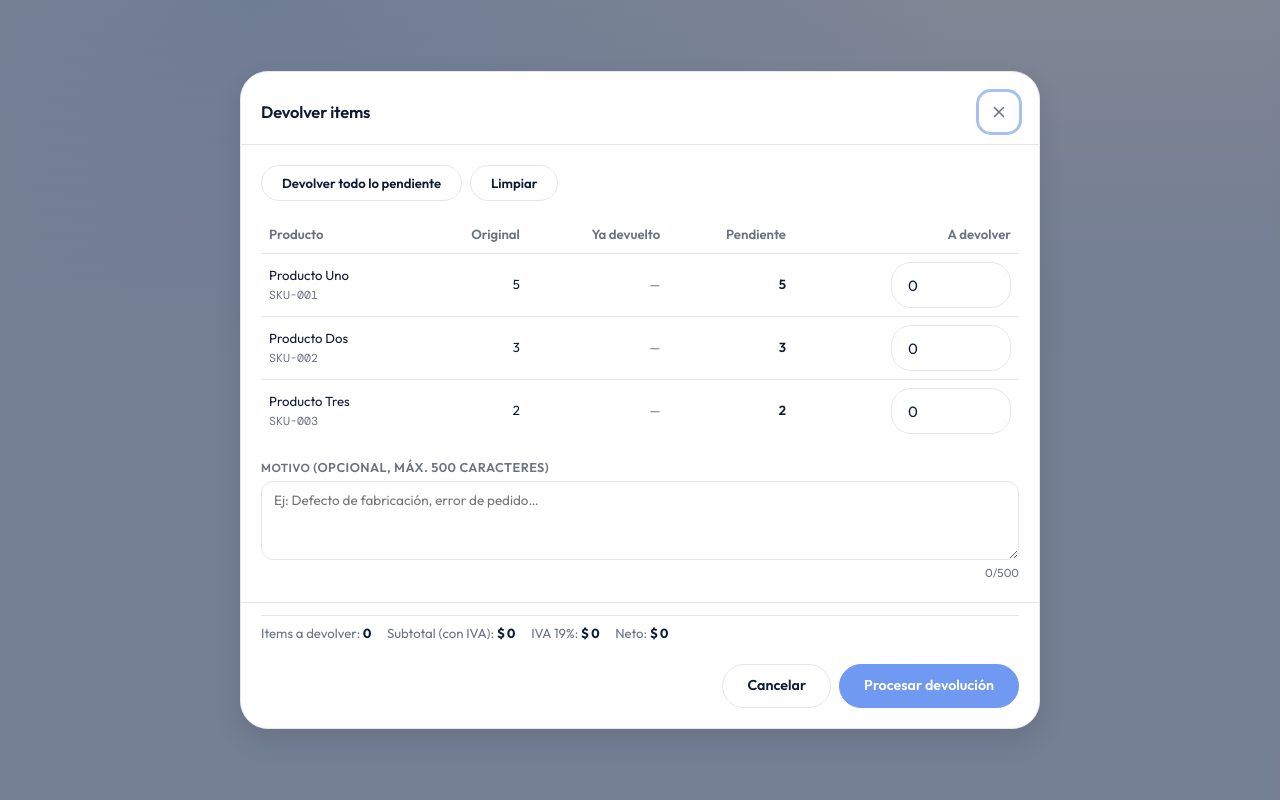
Test: DevolucionModal › ingresar una cantidad y limpiar la pone en 0
This screenshot has width=1280, height=800.
Click the button "Devolver todo lo pendiente" at (362,184), box [261,166,462,202]
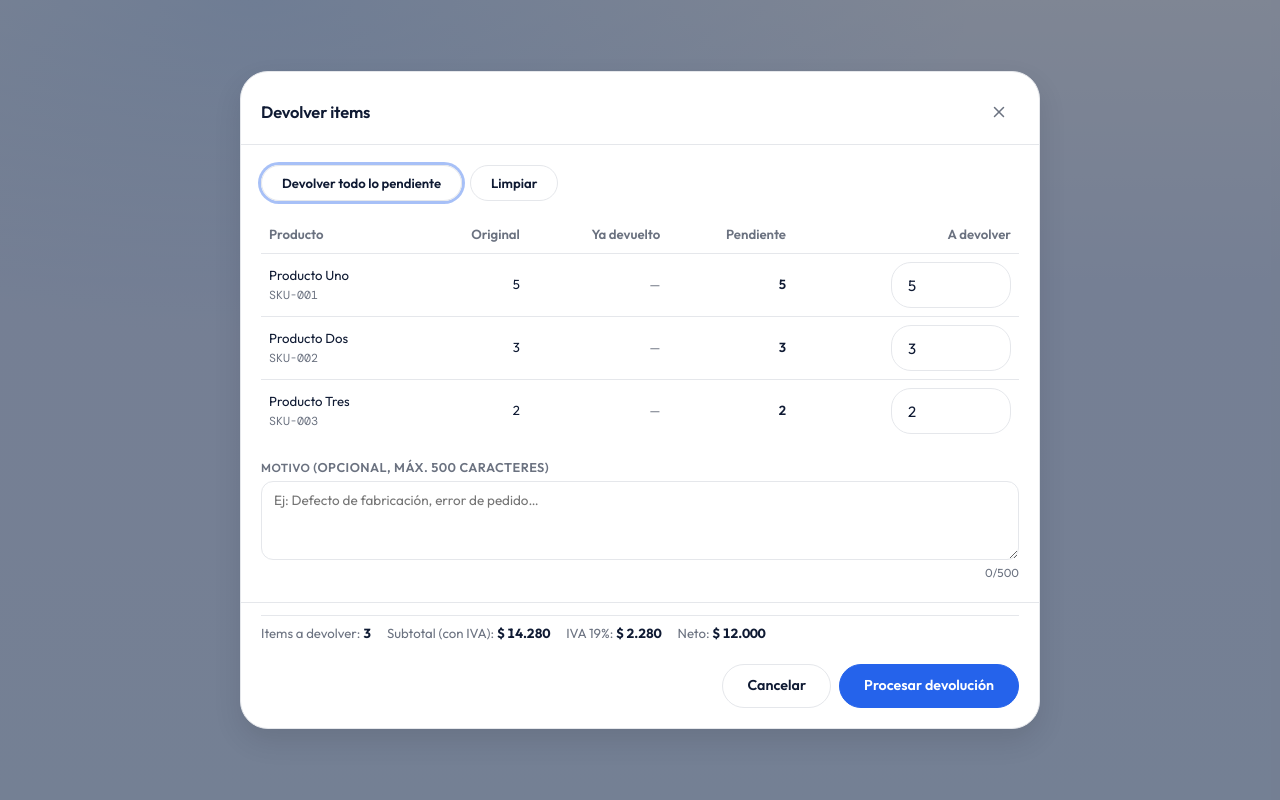
Expected: the button "Procesar devolución" is enabled, [839,664,1019,708]
# Click en limpiar
Click the button "Limpiar" at (514,184), box [470,166,558,202]
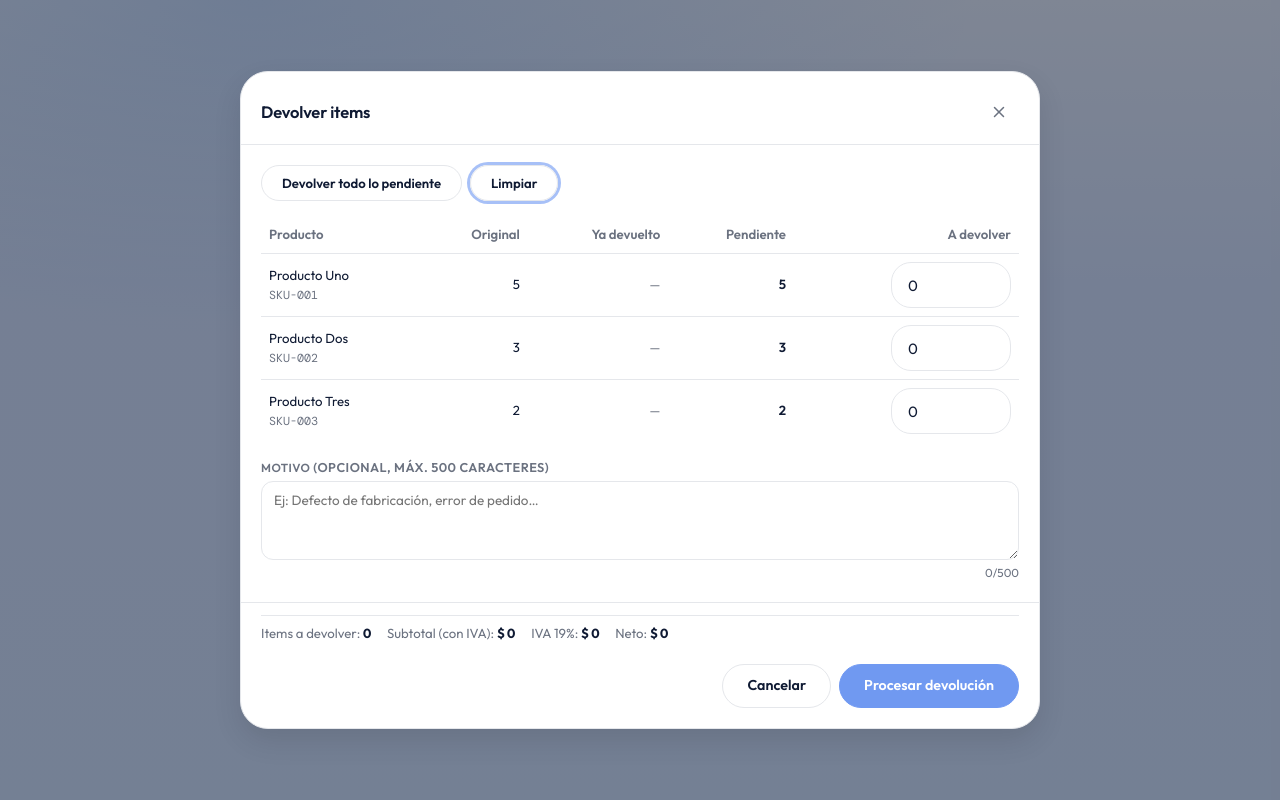
Expected: the button "Procesar devolución" is disabled, [839,664,1019,708]
